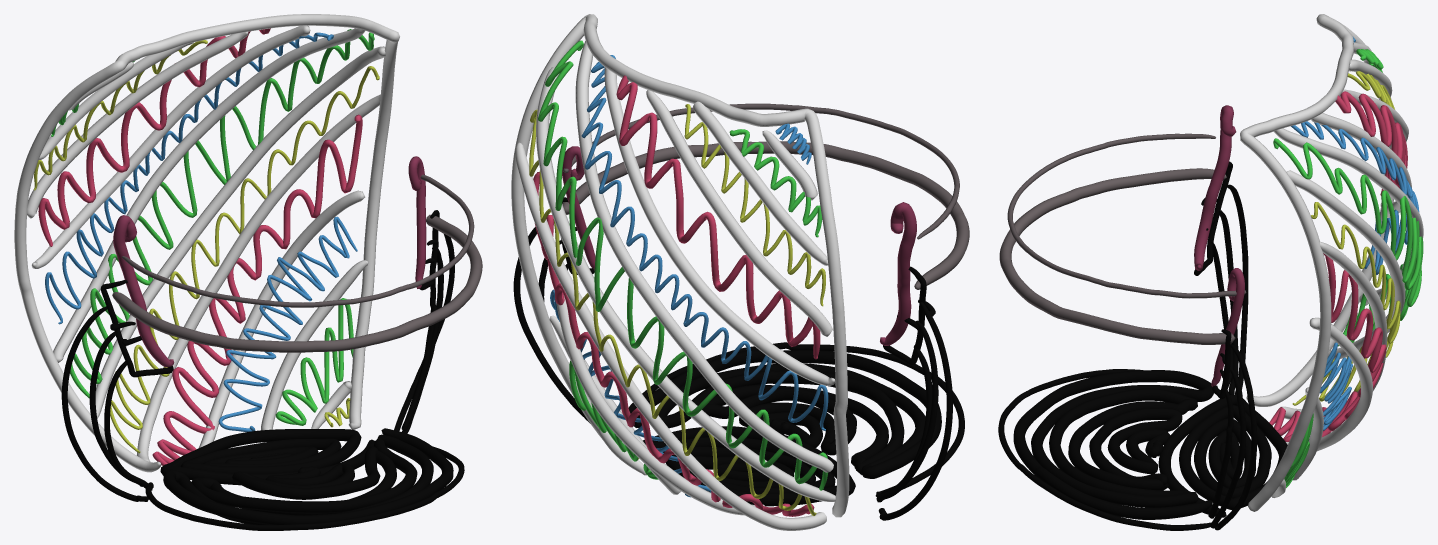
The picture shows the model from 3 angles, left to right: view 1: azimuth 30°, elevation 25°; view 2: azimuth 150°, elevation 25°; view 3: azimuth 270°, elevation 25°; orthographic projection. The views are drawn at different scales.
Visible parts, largest first — view 1: Disco_geo; view 2: Disco_geo; view 3: Disco_geo.
Boxes of the visible parts, x1,y1,x2,y2 form: Disco_geo: [14, 14, 482, 530]; Disco_geo: [511, 14, 969, 530]; Disco_geo: [998, 14, 1423, 530].
Bounding box in the file's own units: 1.6 × 1.57 × 1.47.
